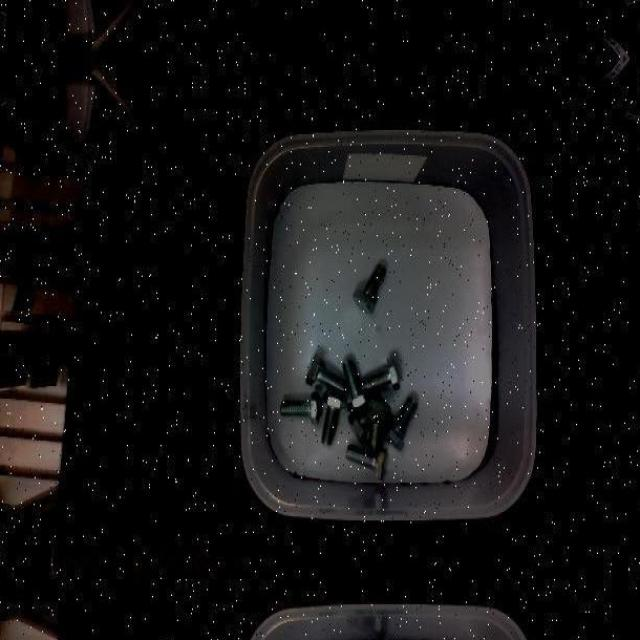screw: (382, 397, 417, 451), (306, 351, 346, 395), (353, 263, 387, 314), (345, 442, 388, 478), (341, 358, 368, 411), (321, 391, 347, 446), (361, 357, 400, 393), (365, 396, 390, 452), (279, 390, 319, 424)
